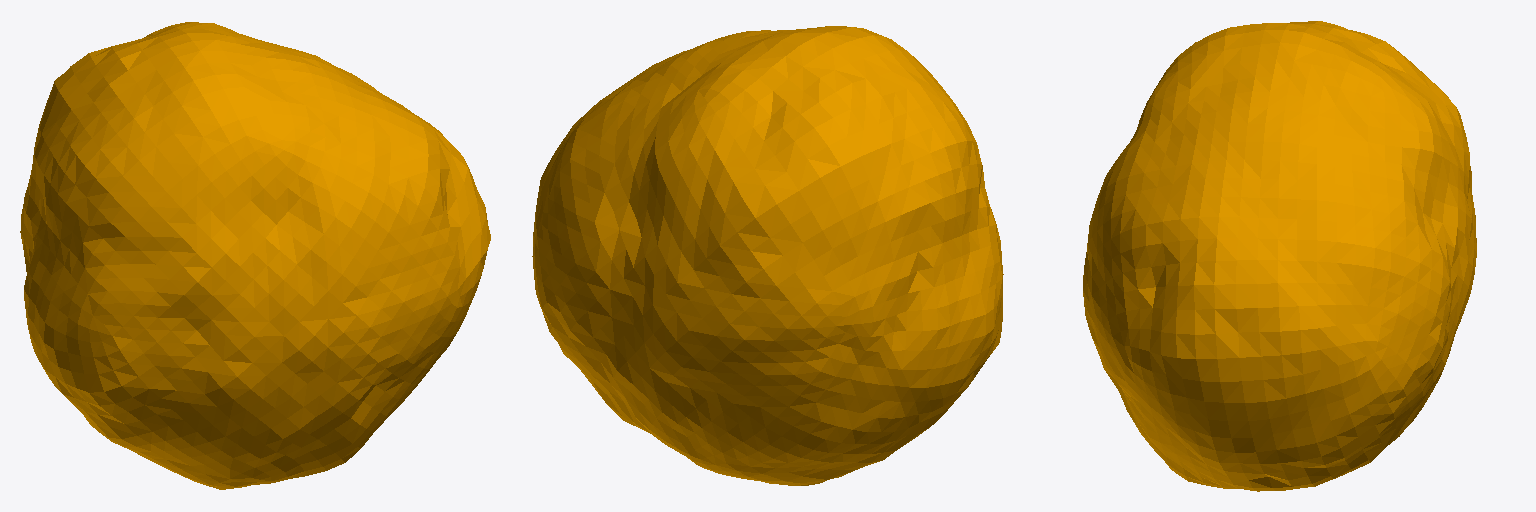
The robot description file, URDF, robot "rock":
<?xml version="1.0" ?>
<robot name="rock">
  <link name="rock">
    <inertial>
      <mass value="0.222"/>
      <origin rpy="0 0 0" xyz="0 0 0"/>
      <inertia ixx="0.000222" ixy="0" ixz="0" iyy="0.000222" iyz="0" izz="0.000222"/>
    </inertial>
    <collision name="rock_collision">
      <origin rpy="0 0 0" xyz="0 0 0"/>
      <geometry>
        <mesh filename="package://rocks/visual/199.dae" scale="1 1 1"/>
      </geometry>
    </collision>
    <visual name="rock_visual">
      <origin rpy="0 0 0" xyz="0 0 0"/>
      <geometry>
        <mesh filename="package://rocks/visual/199.dae" scale="1 1 1"/>
      </geometry>
    </visual>
  </link>
</robot>

--- What the picture shows (computed from the rendered views, not written in the file) ---
3 views of the same robot in one strip: view 1: azimuth 30°, elevation 25°; view 2: azimuth 150°, elevation 25°; view 3: azimuth 270°, elevation 25° (orthographic).
Robot: rock — 1 links, 0 joints (none); root link rock; default pose: all joints at 0.
Links seen in each view (by area): view 1: rock; view 2: rock; view 3: rock.
Boxes of the visible links, x1,y1,x2,y2 form: rock: (20, 22, 490, 489); rock: (532, 26, 1003, 485); rock: (1083, 21, 1476, 491).
Bounding box of the posed robot: 0.0859 × 0.0721 × 0.0869 m (x, y, z).
Meshes: 1 distinct files referenced, 1 mesh visuals loaded (1 Collada DAE).